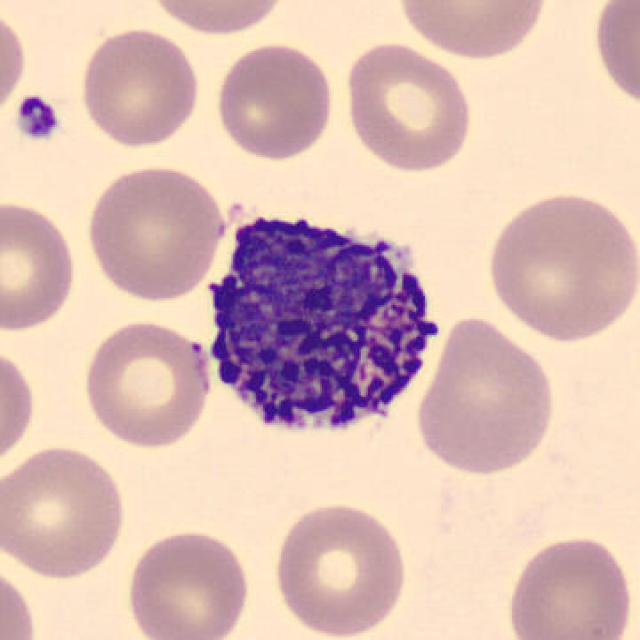basophil: (218, 188, 447, 418)
platelets: (12, 84, 62, 144)
rbc: (489, 188, 640, 343), (344, 25, 478, 187), (90, 165, 238, 308), (429, 320, 555, 472), (268, 500, 409, 624), (82, 321, 215, 449), (218, 36, 344, 171), (0, 448, 122, 581), (80, 41, 198, 148), (130, 528, 247, 632), (0, 178, 78, 333), (510, 538, 626, 640), (397, 1, 552, 45), (583, 3, 640, 99), (0, 564, 52, 640), (145, 0, 287, 24), (0, 24, 25, 100)
